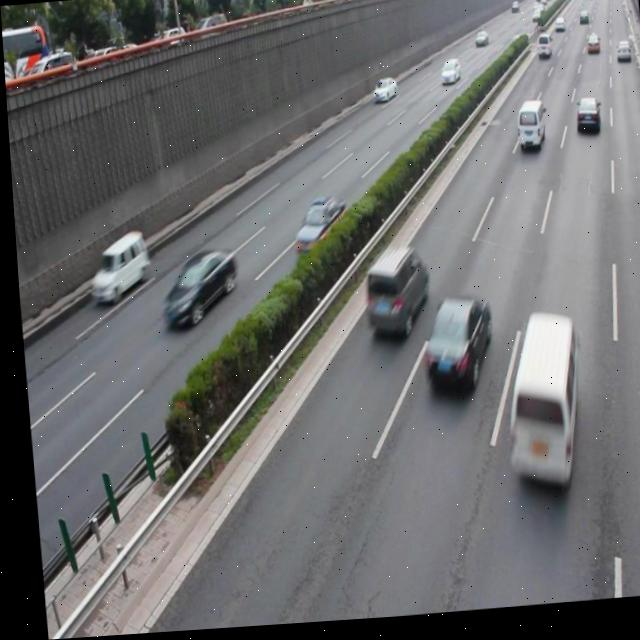car: (412, 297, 488, 398), (153, 246, 234, 329), (357, 248, 426, 343), (82, 232, 147, 303), (286, 199, 344, 260), (571, 104, 596, 142)
truck: (492, 316, 578, 494), (511, 106, 542, 158)
